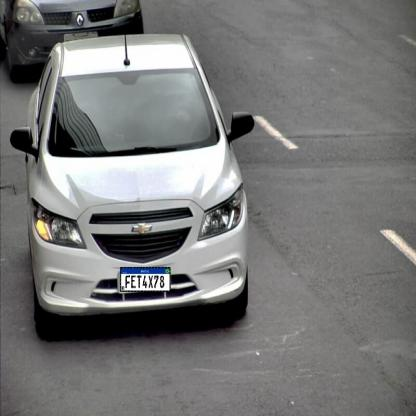PlacaM: (120, 267, 171, 292)
